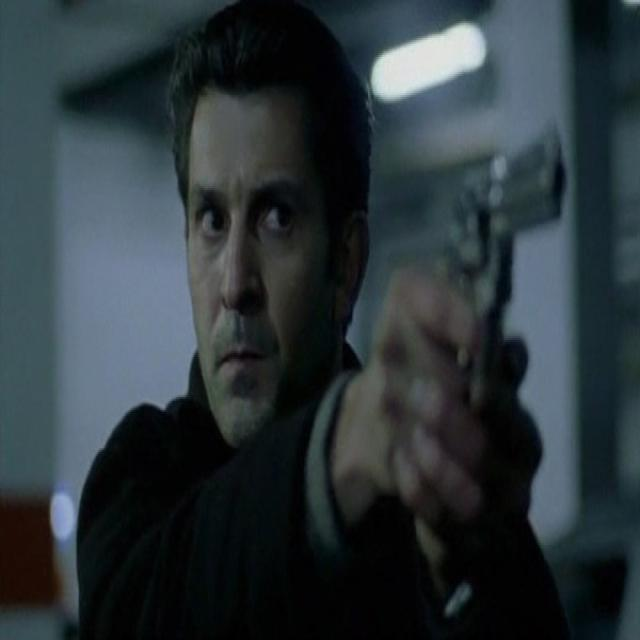weapons: (403, 120, 583, 427)
